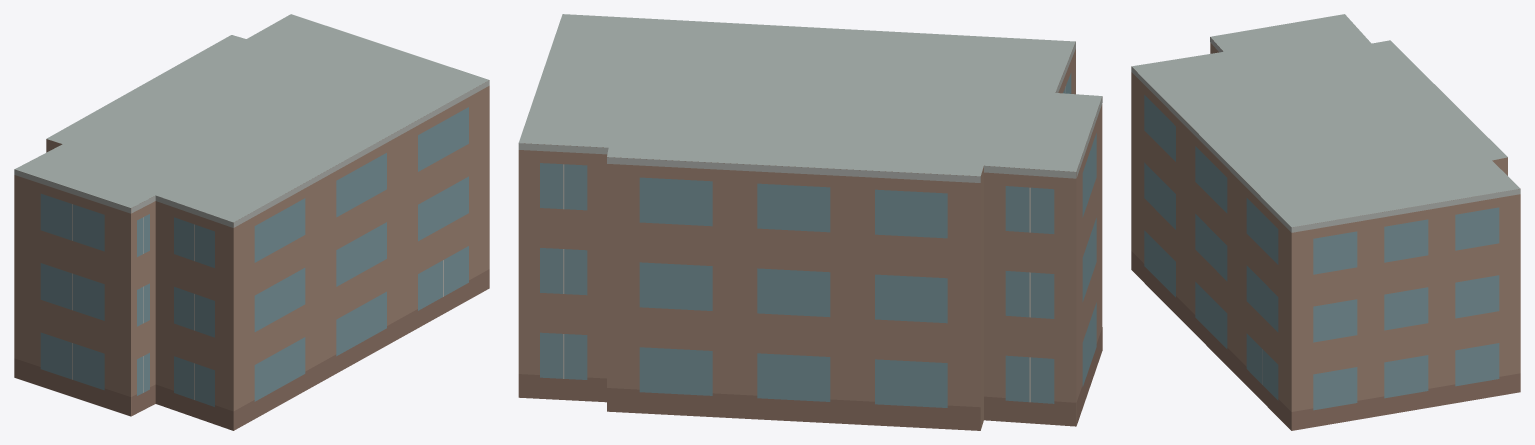
Rendered from survey-upis-32951788.glb.
The picture shows the model from 3 angles, left to right: view 1: azimuth 30°, elevation 25°; view 2: azimuth 150°, elevation 25°; view 3: azimuth 270°, elevation 25°; orthographic projection. The views are drawn at different scales.
Visible parts, largest first — view 1: survey-upis-32951788.tmp; view 2: survey-upis-32951788.tmp; view 3: survey-upis-32951788.tmp.
Boxes of the visible parts, box(x1,y1,x2,y2) form: survey-upis-32951788.tmp: box(14, 14, 489, 430); survey-upis-32951788.tmp: box(518, 14, 1102, 430); survey-upis-32951788.tmp: box(1131, 14, 1520, 430).
Size of the model in its own units: 20.59 by 9.15 by 15.87.
